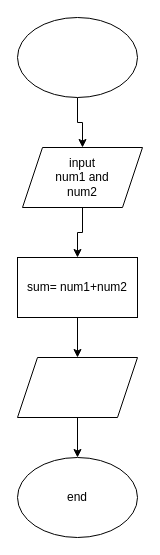
Some shapes in this 160 by 555 pixel diagram are drawn without their labels. Here are the shapes that lost their labels. From the top down, the centre of each, then its label:
the point at 77,57: start
the point at 77,387: print sum
